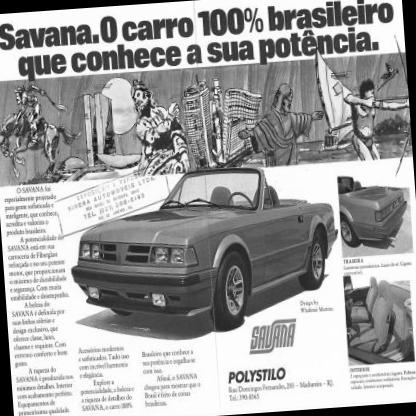car: (56, 152, 348, 333)
